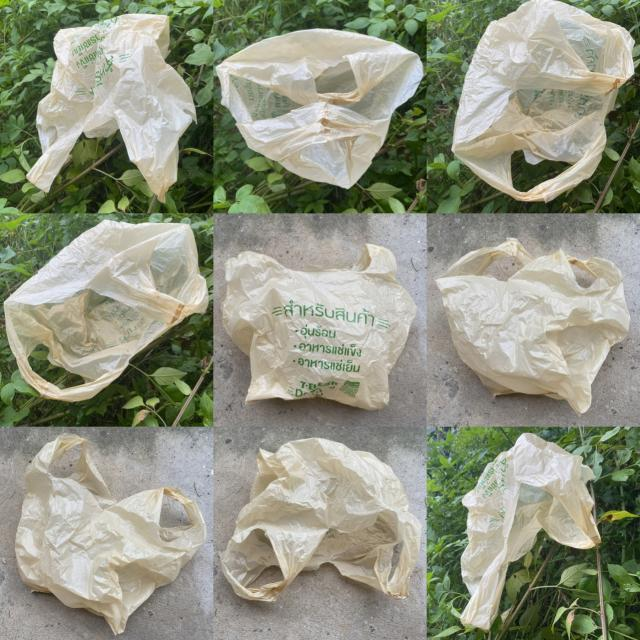Single-layer Plastic: (15, 434, 206, 634), (4, 220, 209, 401), (452, 0, 634, 201), (436, 238, 630, 414), (216, 29, 422, 189), (221, 438, 421, 601), (221, 244, 416, 410), (26, 14, 196, 202), (461, 432, 600, 630)
